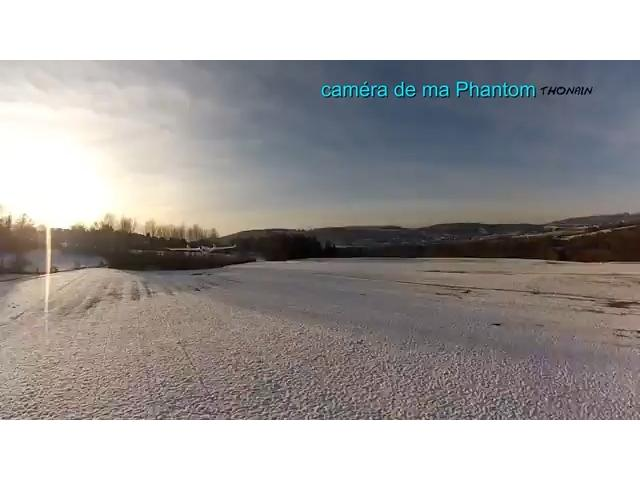Anti-Drone: (154, 237, 246, 259)
